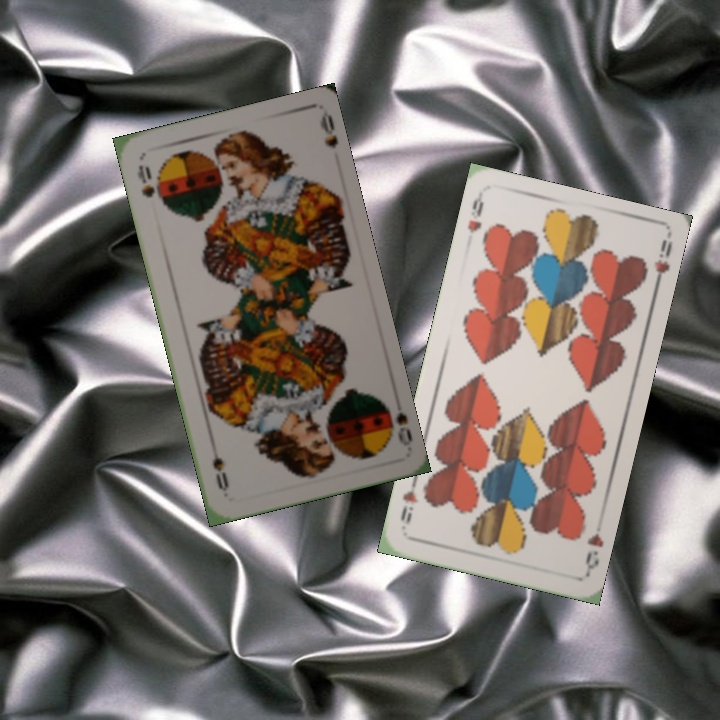H9: (581, 529, 606, 576), (463, 190, 486, 236)
SO: (377, 395, 415, 449), (133, 161, 163, 203)
